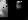person: (1, 1, 9, 18), (18, 3, 24, 9)
